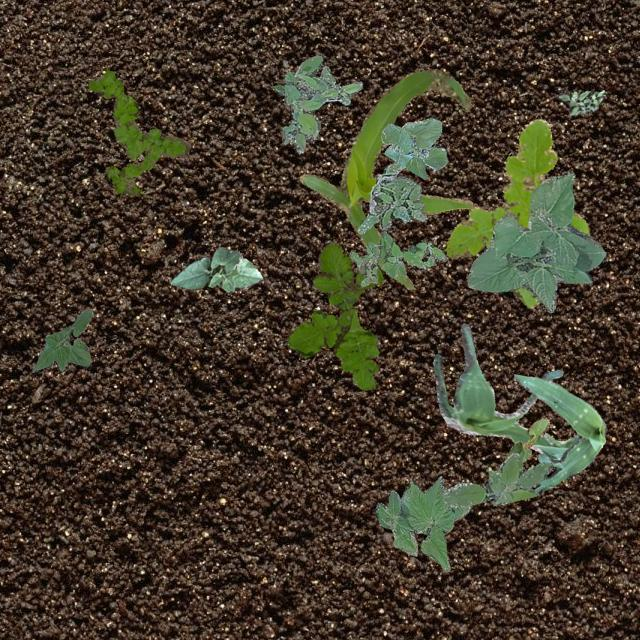crop: (298, 68, 472, 288), (432, 322, 578, 460), (466, 172, 604, 312), (512, 374, 606, 494), (374, 476, 470, 570), (170, 246, 262, 292), (381, 116, 446, 178), (32, 308, 92, 370), (507, 416, 549, 461)
weed: (444, 119, 588, 308), (288, 240, 382, 388), (88, 68, 190, 196), (272, 54, 362, 152), (442, 452, 552, 506), (348, 230, 446, 286), (356, 162, 426, 232), (556, 88, 604, 115)
